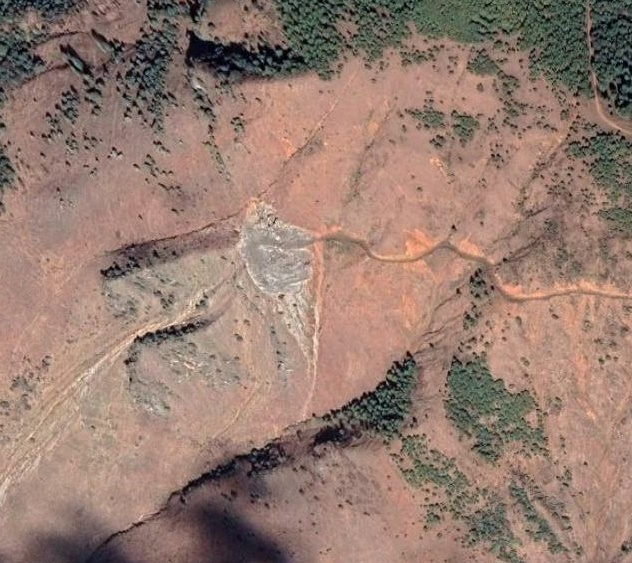slope: (97, 227, 239, 321), (238, 197, 323, 349), (129, 318, 239, 434)
